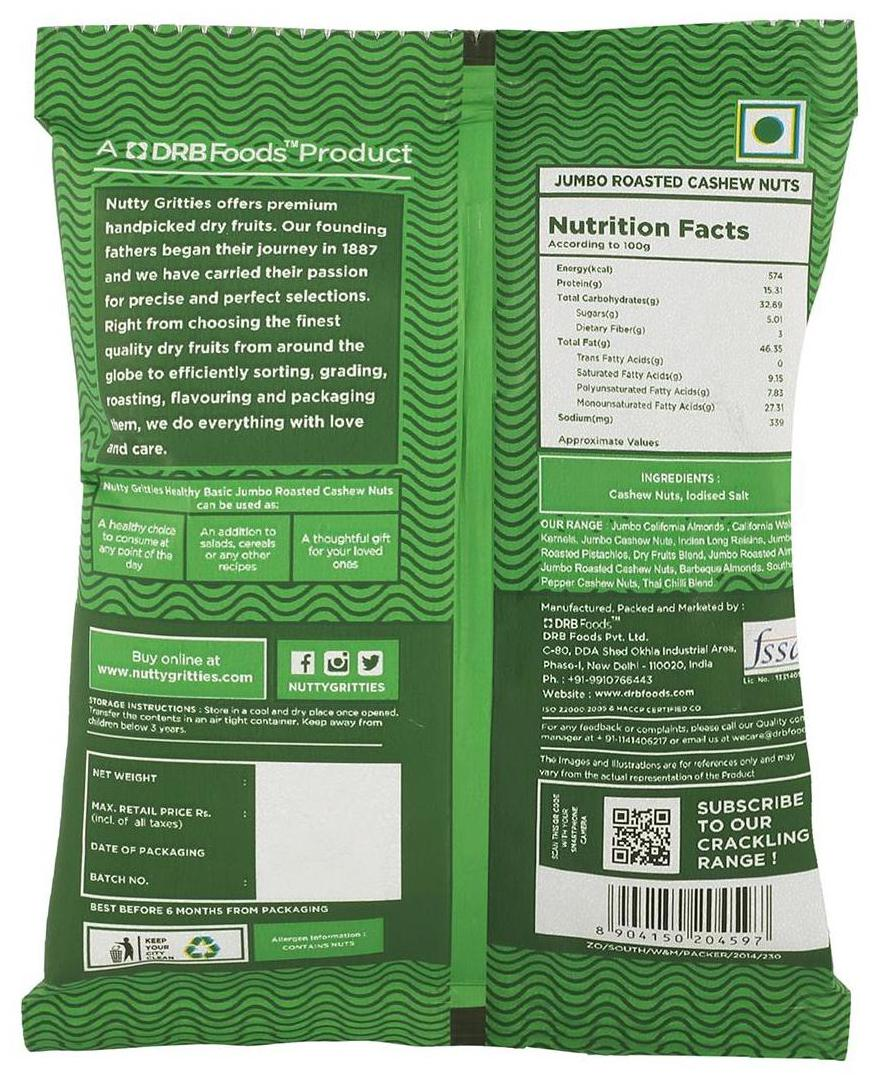fssai: (745, 626, 796, 670)
